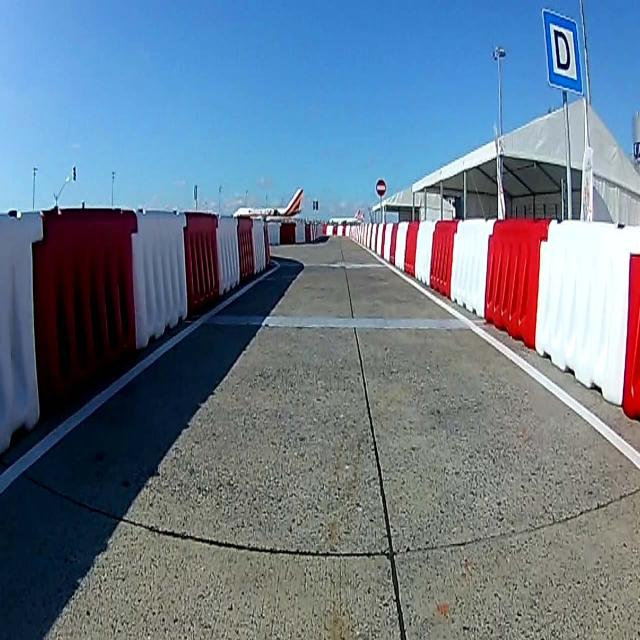durak: (543, 9, 582, 92)
girisyok: (374, 176, 388, 197)
